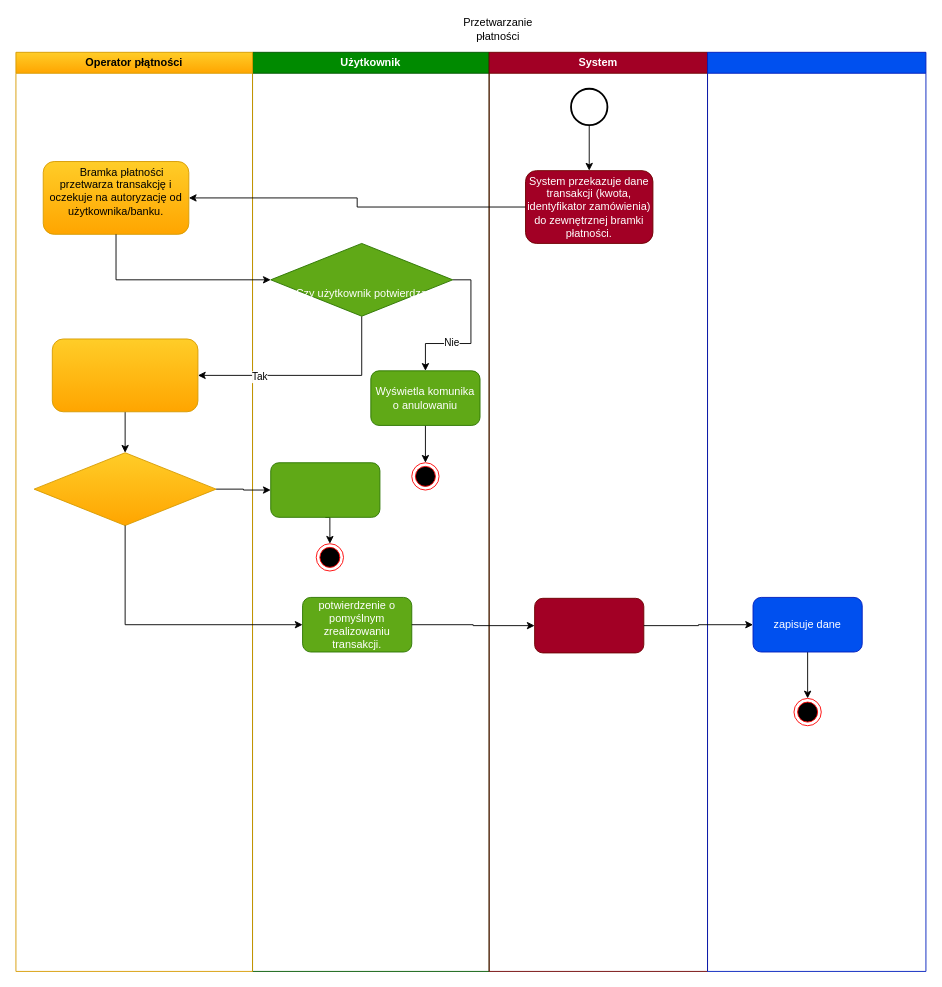
This 942x987 diagram has some shape labels left out. The shapes that lost their labels are listed below. From the top down, each one's box as (x1, y1, x2, y2) in pixels, then its label:
(51, 338, 198, 412): Operator płatności przesyła do systemu
(33, 452, 216, 526): Czy transakcja przeszła
(270, 462, 380, 517): Wyświetla błąd
(707, 51, 926, 971): Baza danych
(534, 597, 644, 653): Wysyla do bazy danych rekord o zakupie
